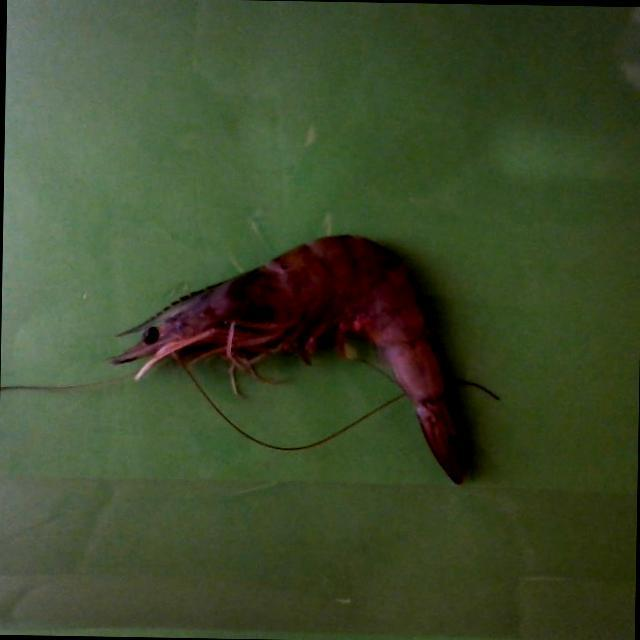shrimp: (110, 235, 462, 482)
